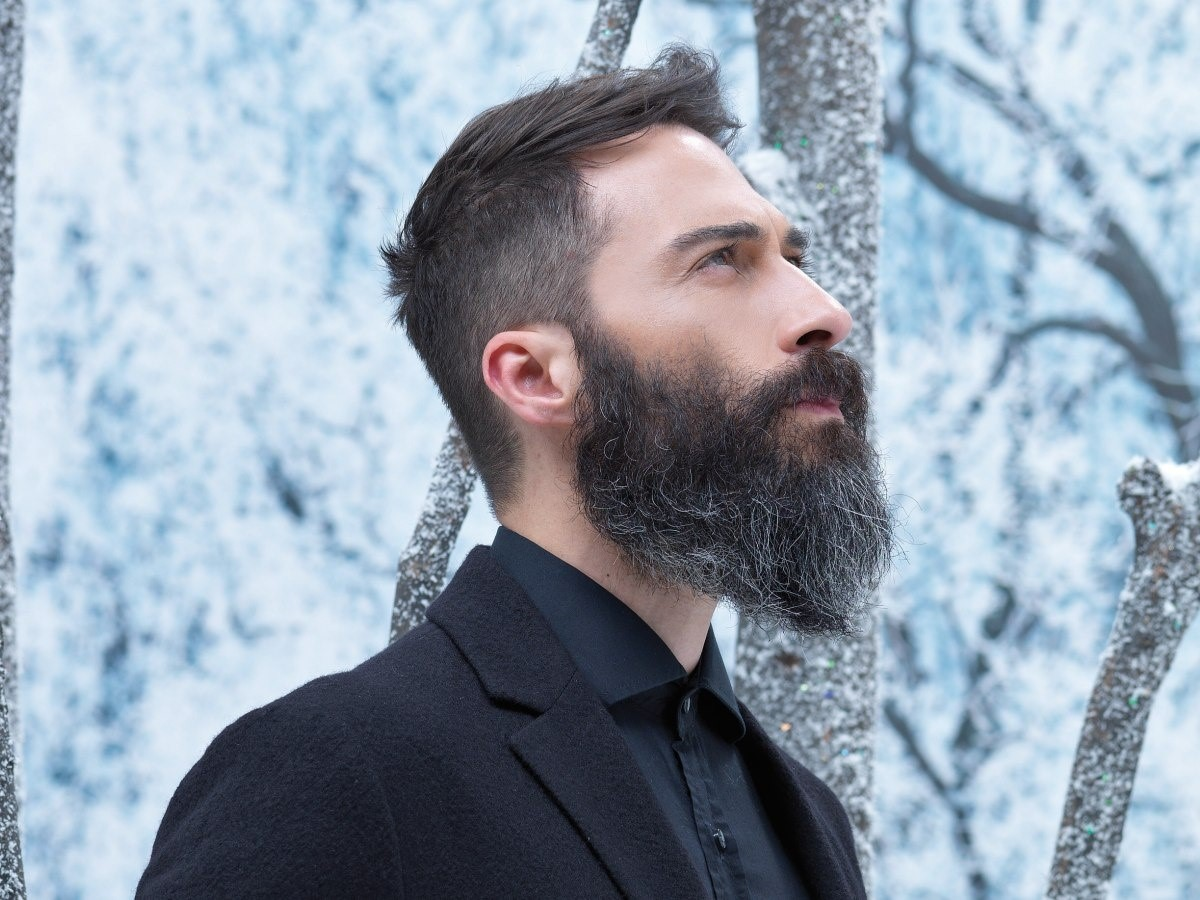face_no_mask: (470, 113, 884, 572)
